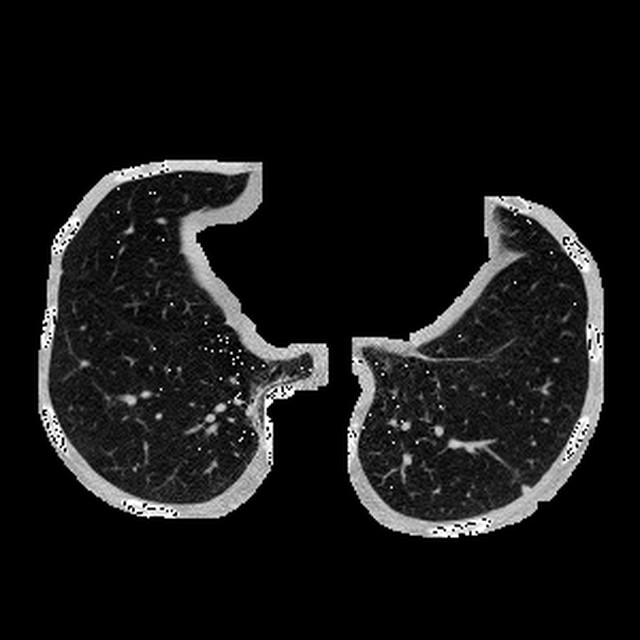PN: (518, 482, 531, 495)
